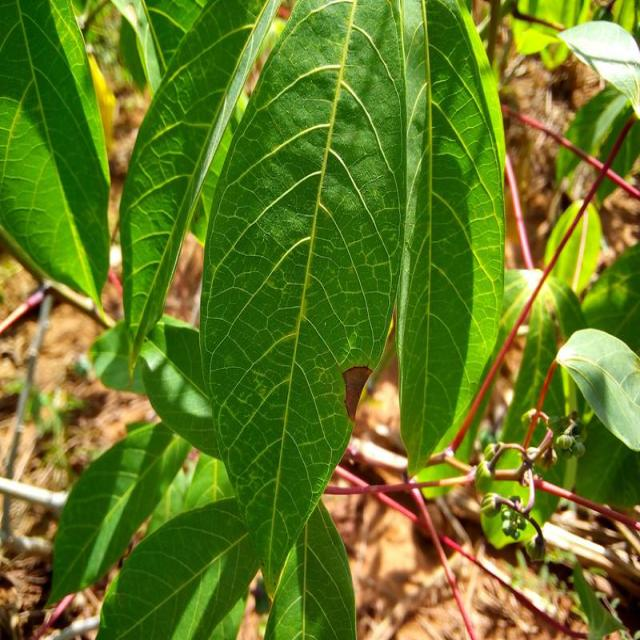cassava leaf: (197, 0, 408, 598), (116, 0, 280, 378), (394, 0, 508, 479), (0, 0, 111, 315), (554, 326, 638, 452)
